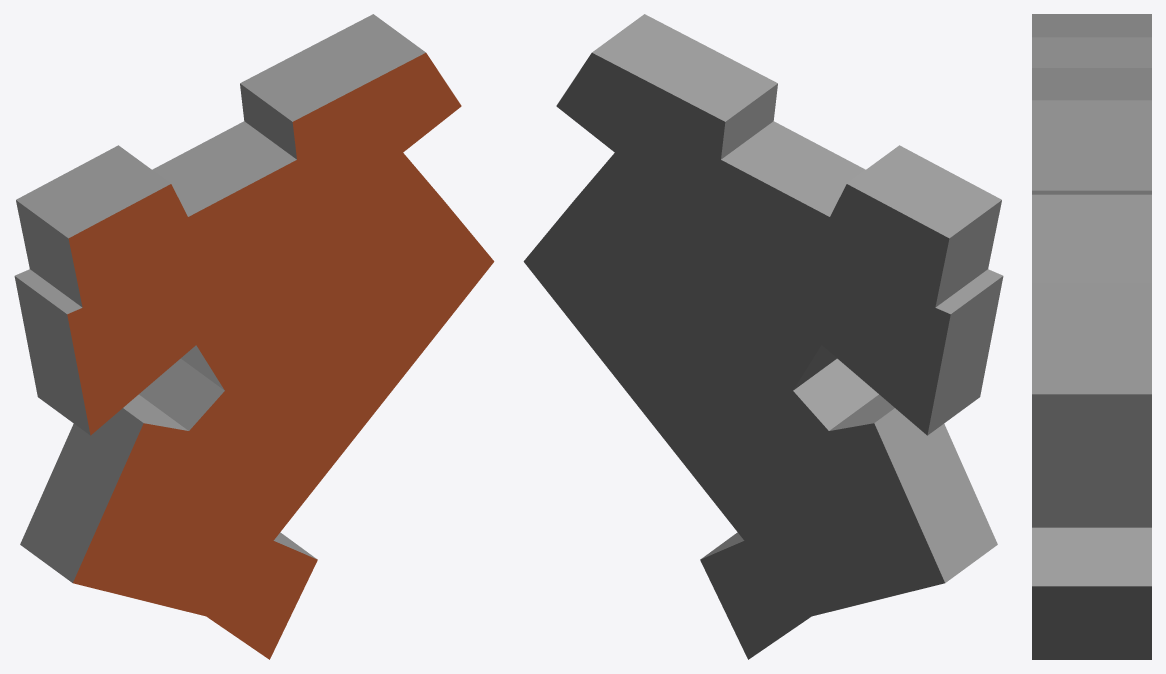
Rendered from construction_0476_assumed_A_Casa_h6m.obj.
3 renders of one model, left to right at view 1: azimuth 30°, elevation 25°; view 2: azimuth 150°, elevation 25°; view 3: azimuth 270°, elevation 25°, orthographic. The views are drawn at different scales.
Parts seen in each view (by area): view 1: construction_0476_assumed_A_Casa; view 2: construction_0476_assumed_A_Casa; view 3: construction_0476_assumed_A_Casa.
Part boxes in pixels (left/top/right/bottom): construction_0476_assumed_A_Casa: left=14, top=14, right=494, bottom=659; construction_0476_assumed_A_Casa: left=523, top=14, right=1003, bottom=659; construction_0476_assumed_A_Casa: left=1032, top=14, right=1151, bottom=659.
Size of the model in its own units: 28.07 by 35.73 by 6.
